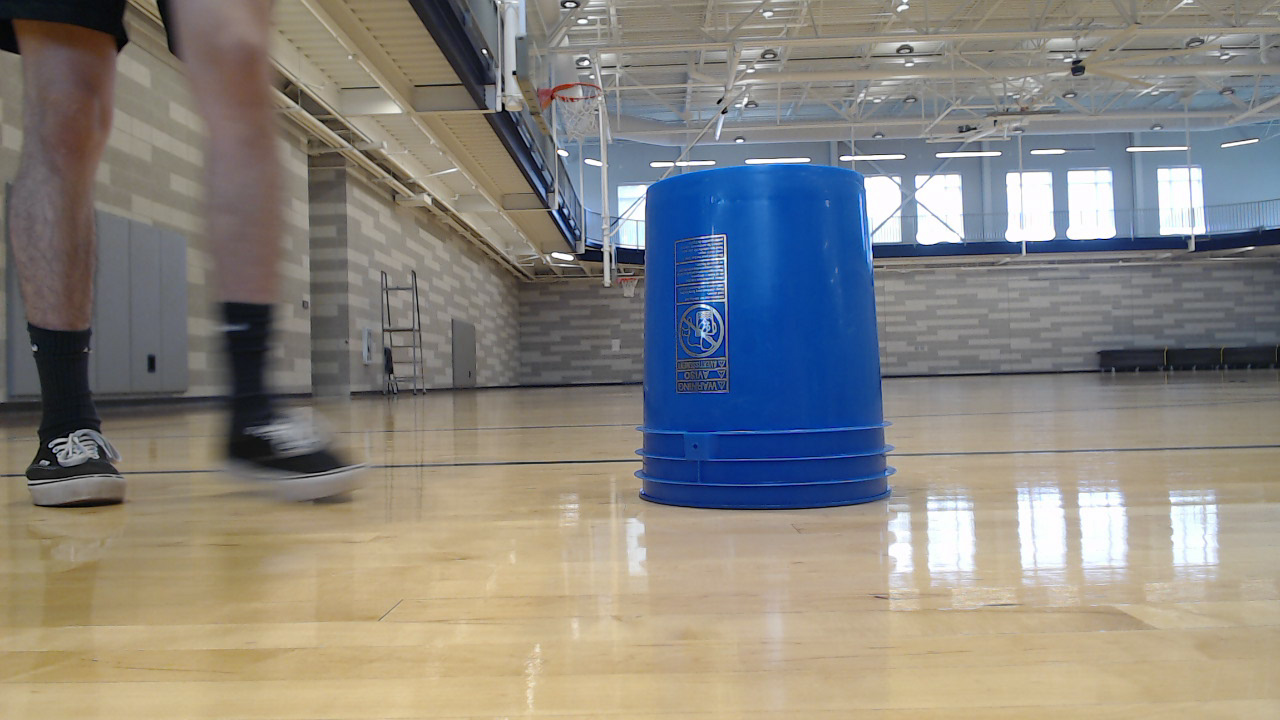blue_bucket: (640, 169, 902, 515)
